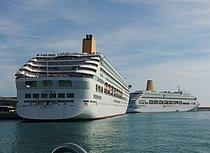Ship: (13, 33, 133, 126), (129, 77, 203, 118)
